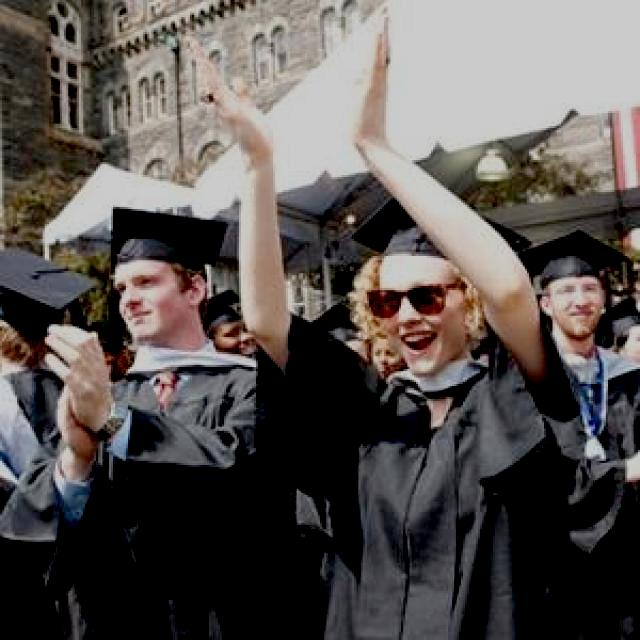no_vest: (336, 345, 575, 636), (79, 345, 299, 588)
